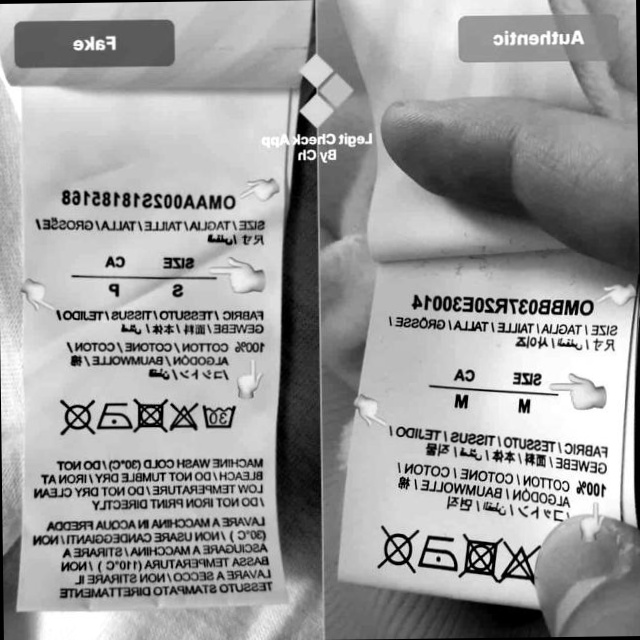30C: (199, 396, 237, 431)
DN_bleach: (501, 538, 536, 586), (169, 400, 197, 435)
DN_dry_clean: (376, 522, 422, 579), (55, 395, 96, 438)
DN_tumble_dry: (457, 530, 503, 586), (132, 396, 167, 436)
iron_low: (416, 531, 459, 575), (95, 397, 129, 434)
